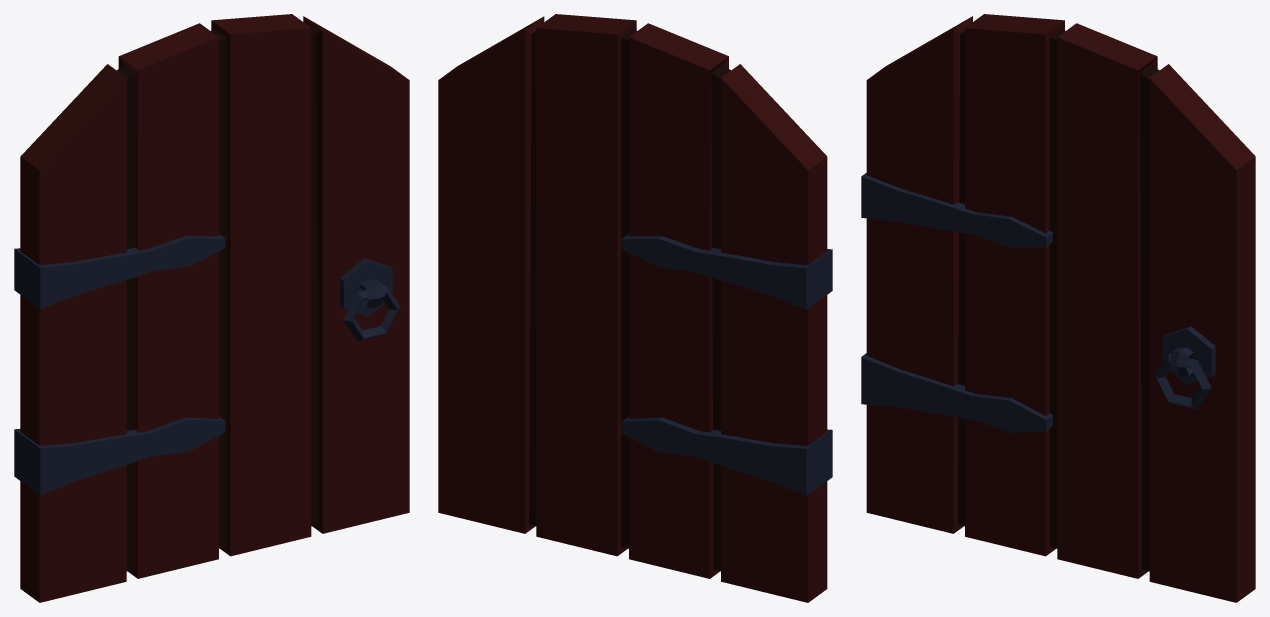
The model's file is door.obj.
3 renders of one model, left to right at view 1: azimuth 30°, elevation 25°; view 2: azimuth 150°, elevation 25°; view 3: azimuth 330°, elevation 25°, orthographic.
Parts seen in each view (by area): view 1: door.001; view 2: door.001; view 3: door.001.
Boxes of the visible parts, x1=… form: door.001: x1=14, y1=14, x2=409, y2=602; door.001: x1=438, y1=14, x2=832, y2=602; door.001: x1=861, y1=14, x2=1255, y2=602.
Bounding box in the file's own units: 2.12 × 2.85 × 0.3705.
